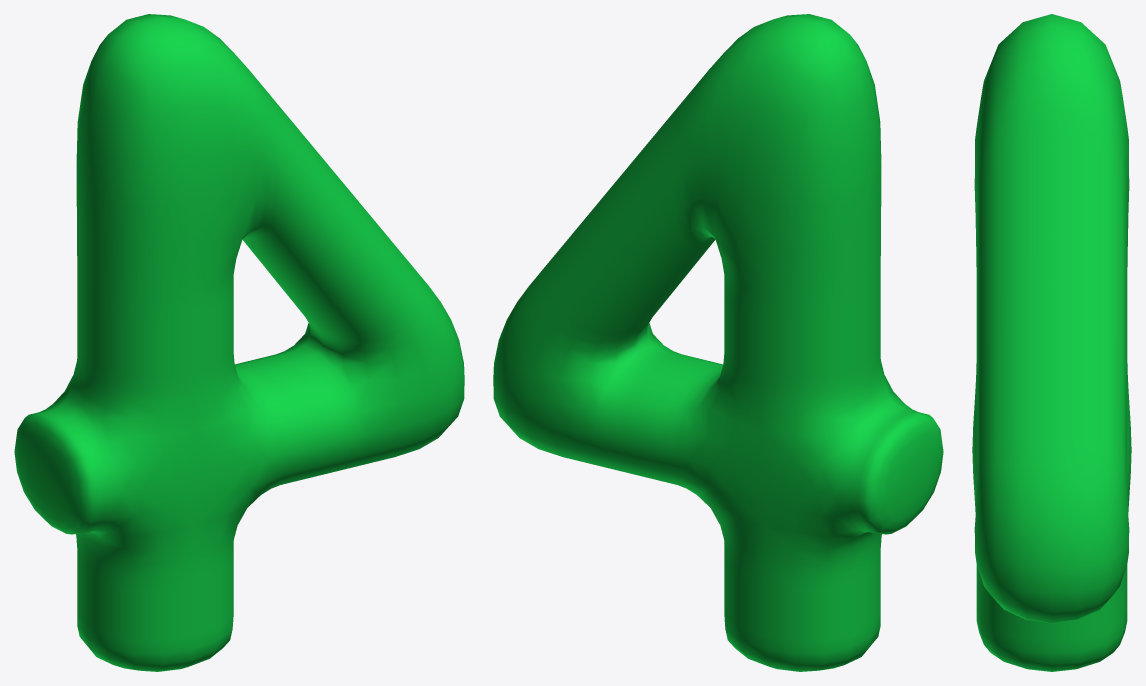
The model's file is numero-4.glb.
The picture shows the model from 3 angles, left to right: view 1: azimuth 30°, elevation 25°; view 2: azimuth 150°, elevation 25°; view 3: azimuth 270°, elevation 25°; orthographic projection.
Visible parts, largest first — view 1: node_id30; view 2: node_id30; view 3: node_id30.
Part boxes in pixels (left/top/right/bottom): node_id30: left=14, top=14, right=464, bottom=671; node_id30: left=493, top=14, right=943, bottom=671; node_id30: left=972, top=14, right=1131, bottom=671.
Bounding box in the file's own units: 0.3465 × 0.512 × 0.1166.
1 material, 1 textured.
